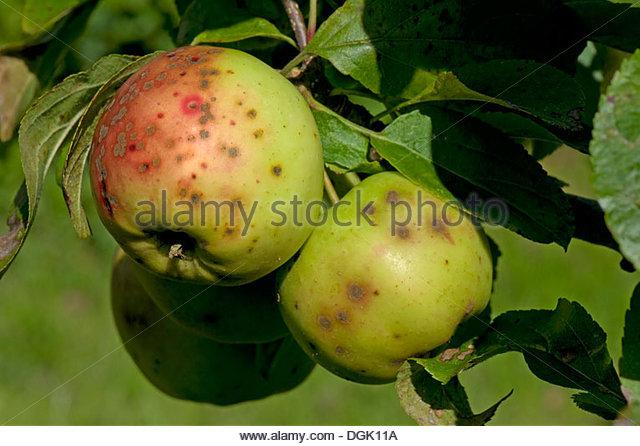Apple Scab Leaf: (370, 103, 584, 254), (301, 1, 563, 110)
